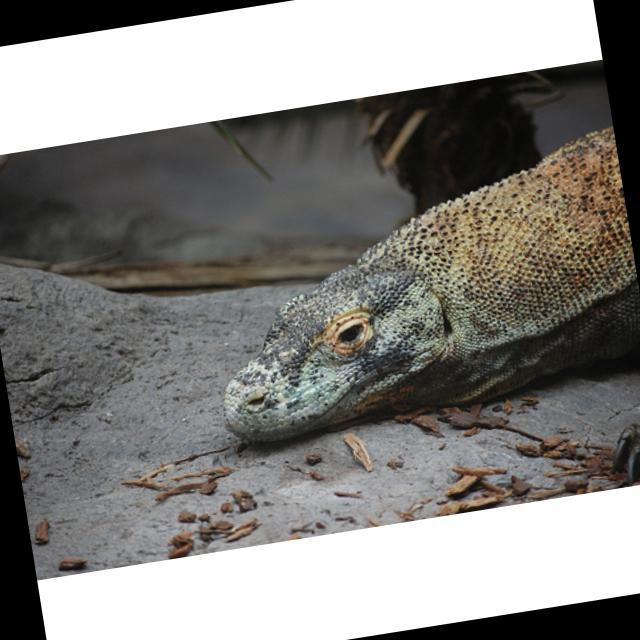KomodoDragon: (186, 118, 640, 453)
